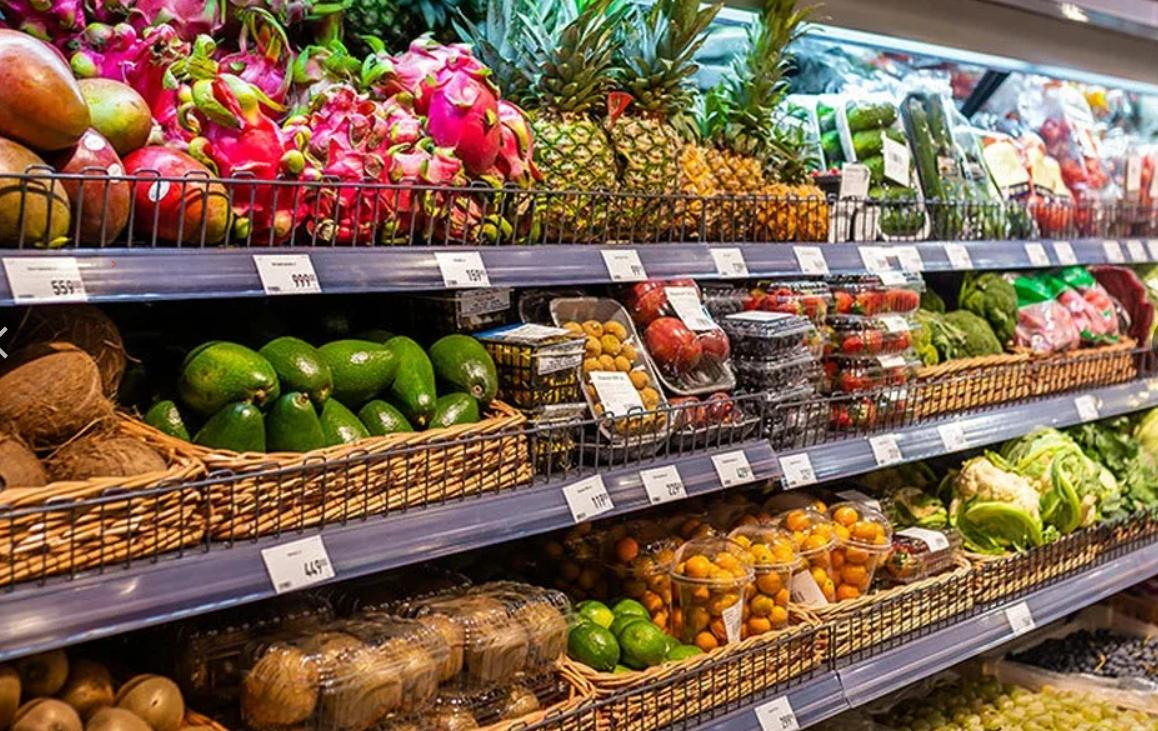cucumber: (838, 98, 930, 246), (911, 95, 983, 243)
grapes: (876, 669, 1158, 731), (1009, 624, 1158, 686)
pineapple: (658, 81, 832, 242), (530, 64, 684, 244)
